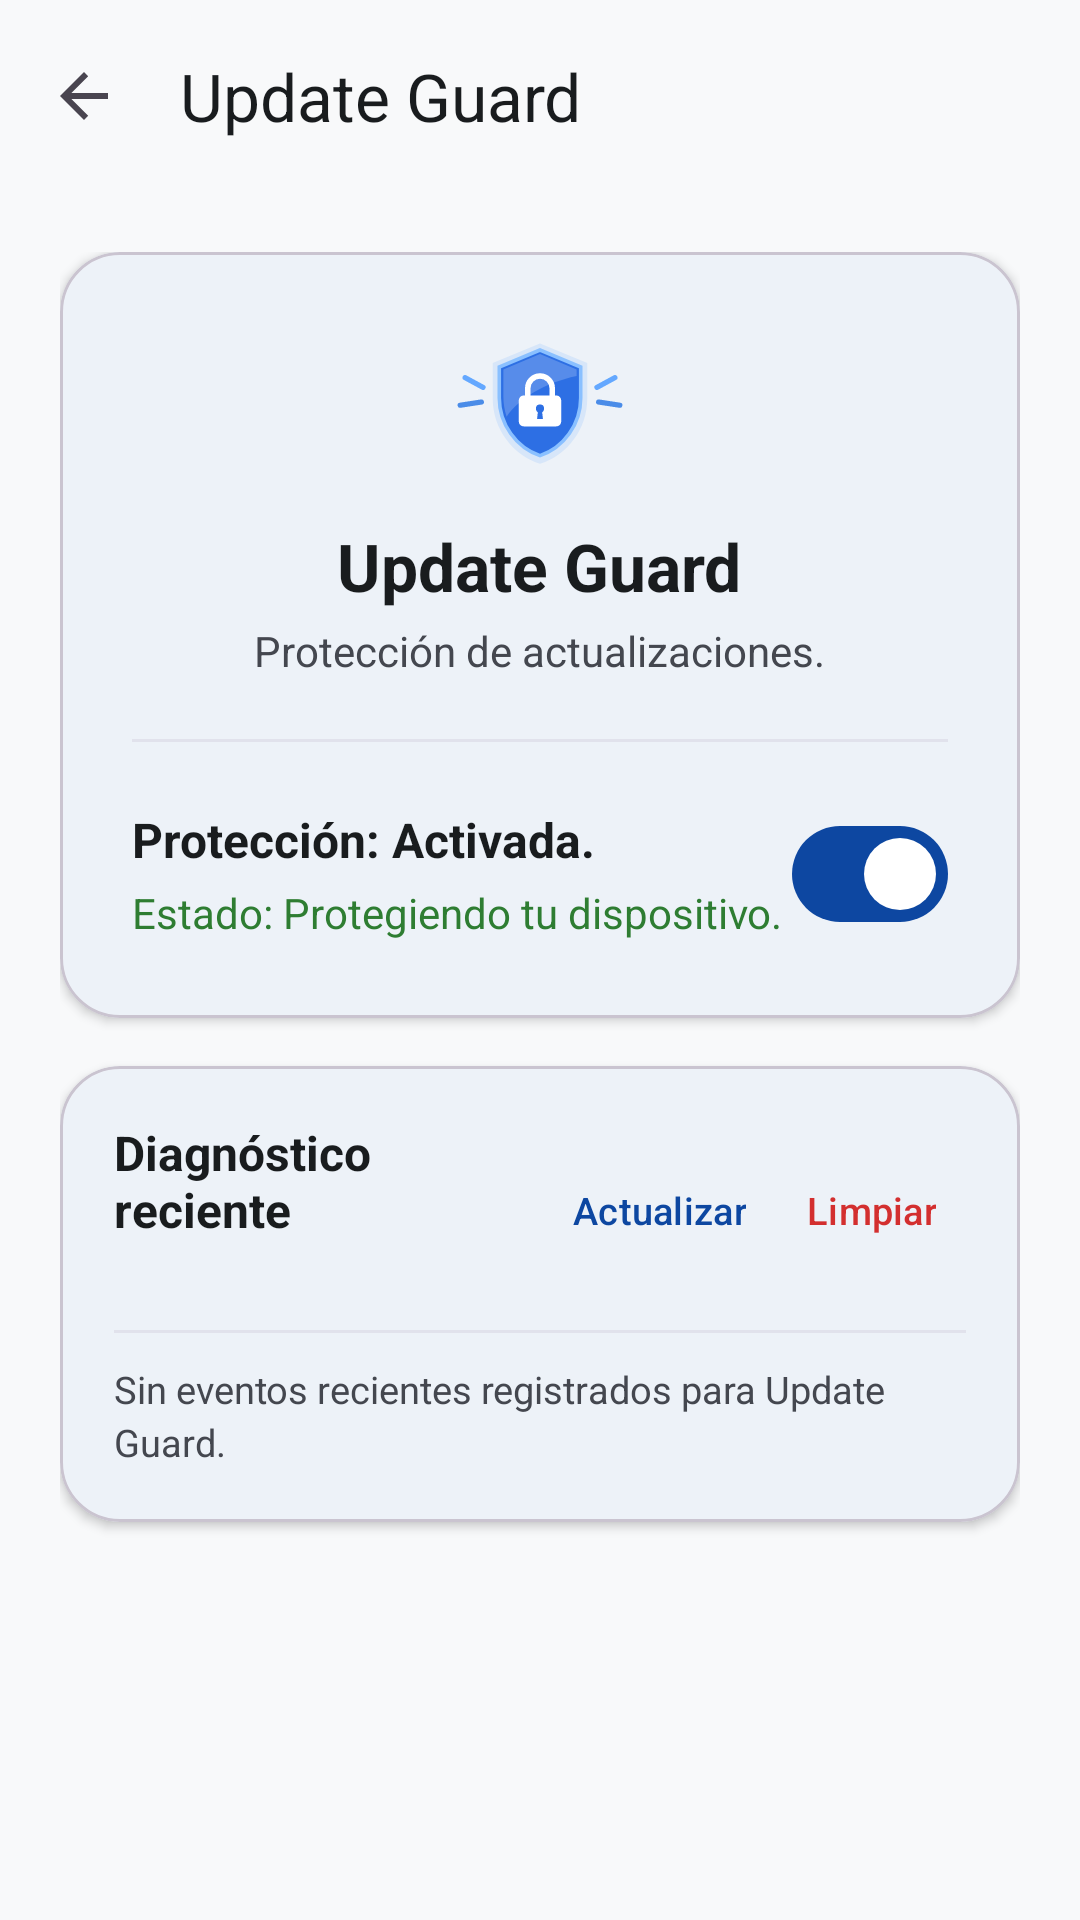

Icon bounding boxes for this 1080px×1920px phone screenshot, format (x1, y1, x2, y2):
update shield lock: (457, 348, 623, 458)
